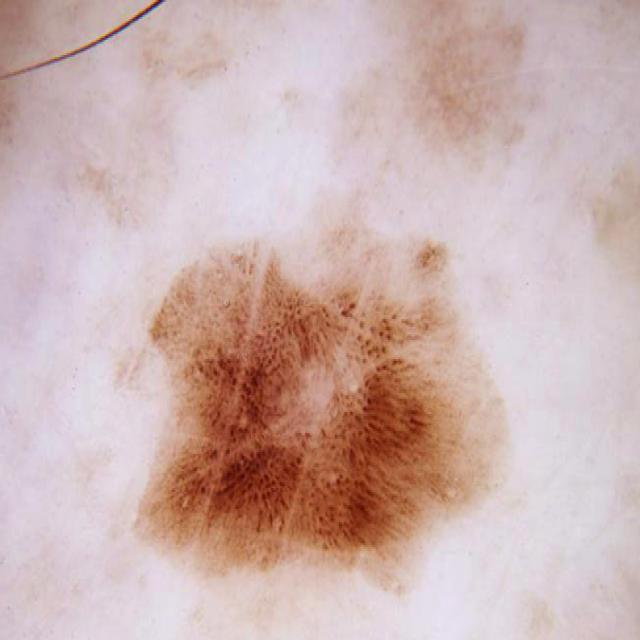Keratosis: (106, 193, 551, 638)
